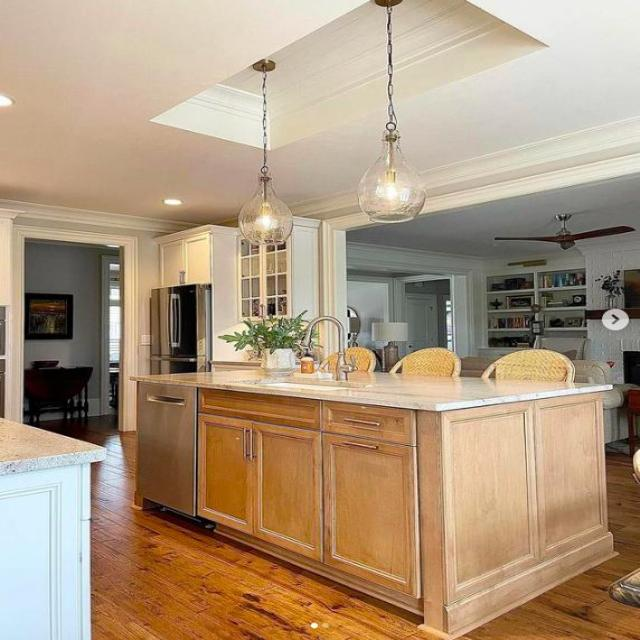dishwasher: (136, 380, 196, 518)
